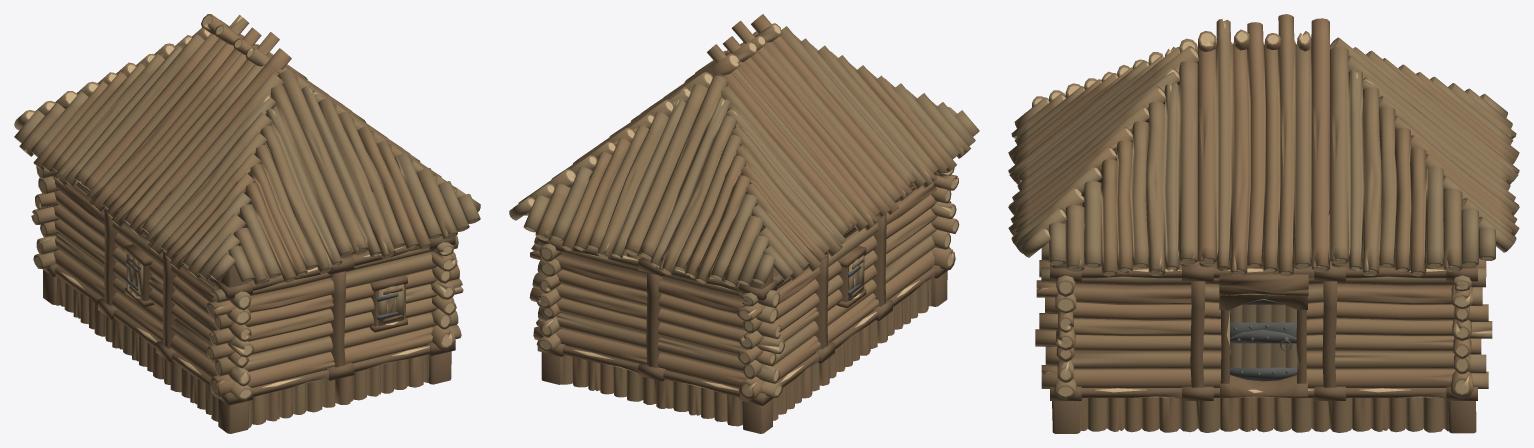
The model's file is rpgpp_ag_building_closed_01.fbx.
The picture shows the model from 3 angles, left to right: view 1: azimuth 30°, elevation 25°; view 2: azimuth 150°, elevation 25°; view 3: azimuth 270°, elevation 25°; orthographic projection. The views are drawn at different scales.
Visible parts, largest first — view 1: rpgpp_ag_building_closed_01; view 2: rpgpp_ag_building_closed_01; view 3: rpgpp_ag_building_closed_01.
Part boxes in pixels (bbox=[...]): rpgpp_ag_building_closed_01: bbox=[14, 14, 480, 433]; rpgpp_ag_building_closed_01: bbox=[509, 14, 979, 433]; rpgpp_ag_building_closed_01: bbox=[1008, 14, 1519, 433].
Size of the model in its own units: 8.61 by 8.79 by 11.61.
